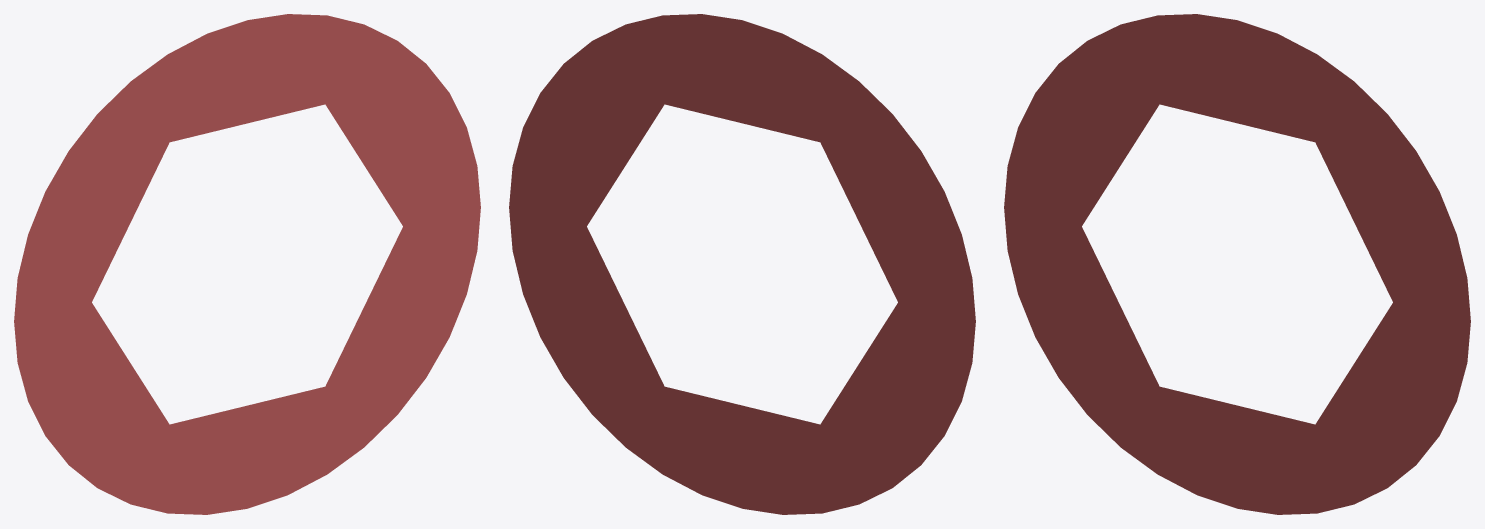
File: bloodVessel - hexagon.fbx
3 renders of one model, left to right at view 1: azimuth 30°, elevation 25°; view 2: azimuth 150°, elevation 25°; view 3: azimuth 330°, elevation 25°, orthographic.
Parts seen in each view (by area): view 1: Hexagon_center; view 2: Hexagon_center; view 3: Hexagon_center.
Boxes of the visible parts, x1,y1,x2,y2 form: Hexagon_center: (14,14,480,514); Hexagon_center: (509,14,975,514); Hexagon_center: (1004,14,1470,514).
Bounding box in the file's own units: 500 × 500 × 3.06e-14.
